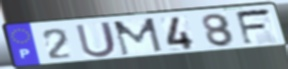2: (42, 28, 74, 61)
4: (164, 15, 196, 51)
8: (200, 12, 235, 49)
F: (233, 7, 274, 47)
M: (111, 16, 165, 57)
U: (73, 20, 119, 59)
